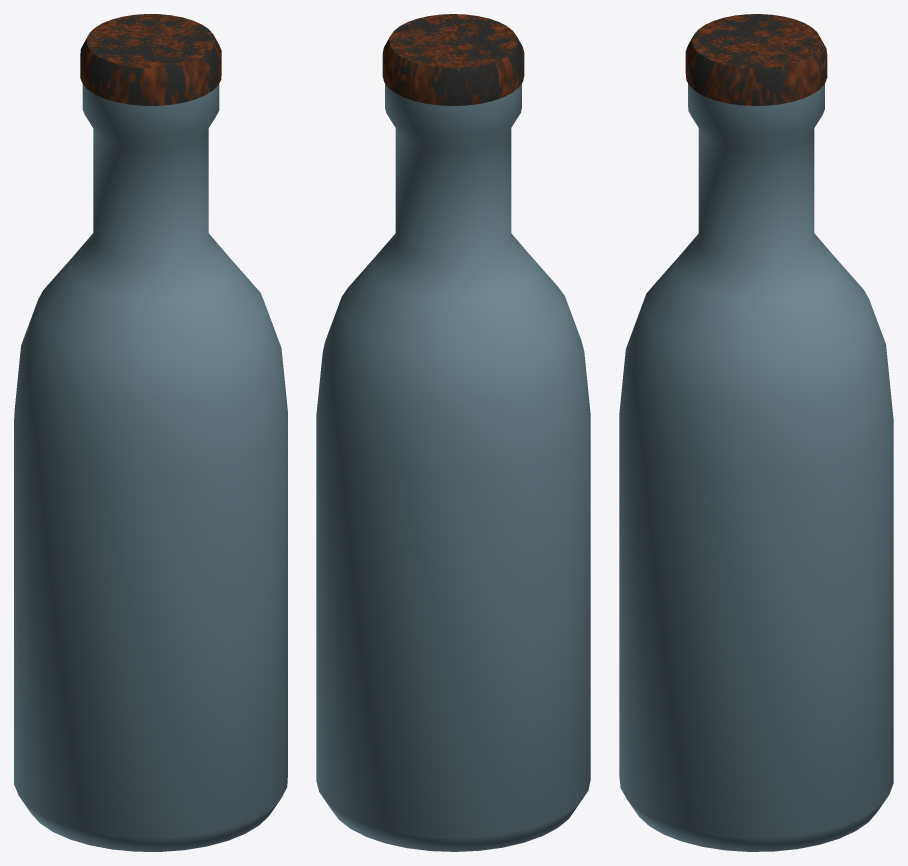
File: SM_Bottle_65db92b5d2.fbx
3 views of the same model, side by side, from view 1: azimuth 30°, elevation 25°; view 2: azimuth 150°, elevation 25°; view 3: azimuth 270°, elevation 25° (orthographic).
Visible parts, largest first — view 1: SM_Bottle_65db92b5d2; view 2: SM_Bottle_65db92b5d2; view 3: SM_Bottle_65db92b5d2.
Boxes of the visible parts, x1,y1,x2,y2 form: SM_Bottle_65db92b5d2: (14, 14, 287, 851); SM_Bottle_65db92b5d2: (316, 14, 590, 851); SM_Bottle_65db92b5d2: (619, 14, 893, 851).
Size of what is drawn, in the model's own units: 12.78 by 12.78 by 39.4.
2 materials, 1 textured.
